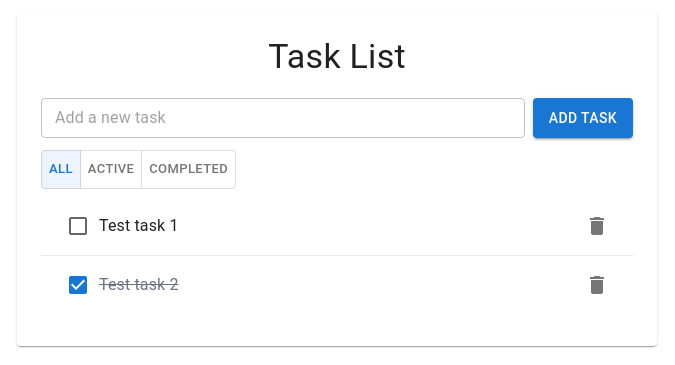
it: TaskList component › filters tasks
The image size is (675, 365).
Expected: the text "Test task 1" is shown, [99, 216, 179, 235]
Expected: the text "Test task 2" is shown, [99, 275, 179, 294]
Click the button "Active".
click(111, 169)  # box [80, 150, 142, 189]
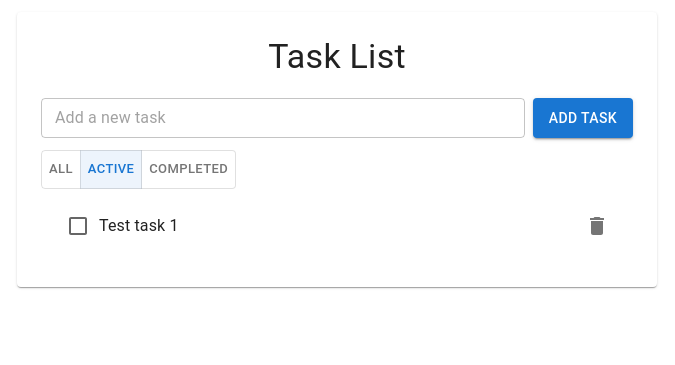
Expected: the text "Test task 1" is shown, [99, 216, 179, 235]
Expected: the text "Test task 2" is gone
Click the button "Completed".
click(189, 169)  # box [141, 150, 236, 189]
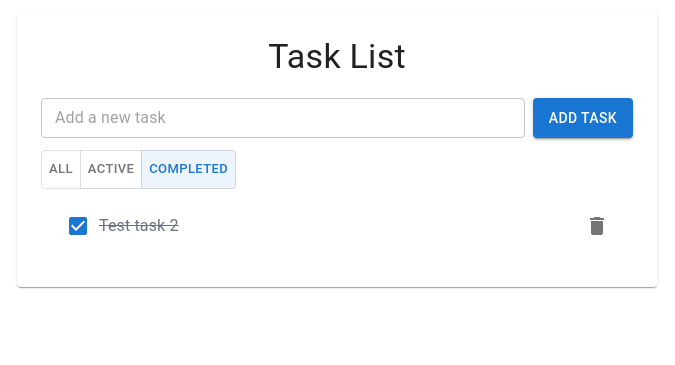
Expected: the text "Test task 1" is gone
Expected: the text "Test task 2" is shown, [99, 216, 179, 235]
Click the button "All".
click(61, 169)  # box [41, 150, 81, 189]
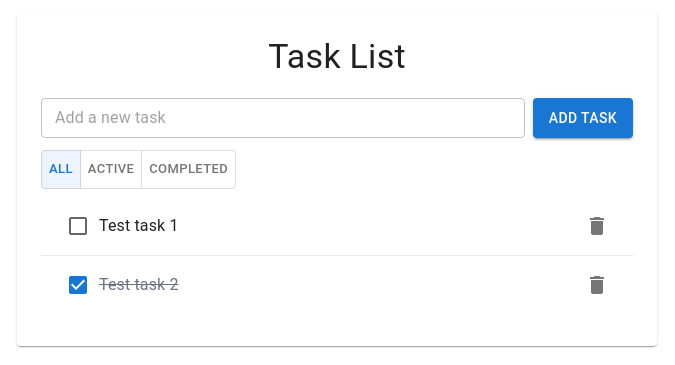
Expected: the text "Test task 2" is shown, [99, 275, 179, 294]
Expected: the text "Test task 1" is shown, [99, 216, 179, 235]
